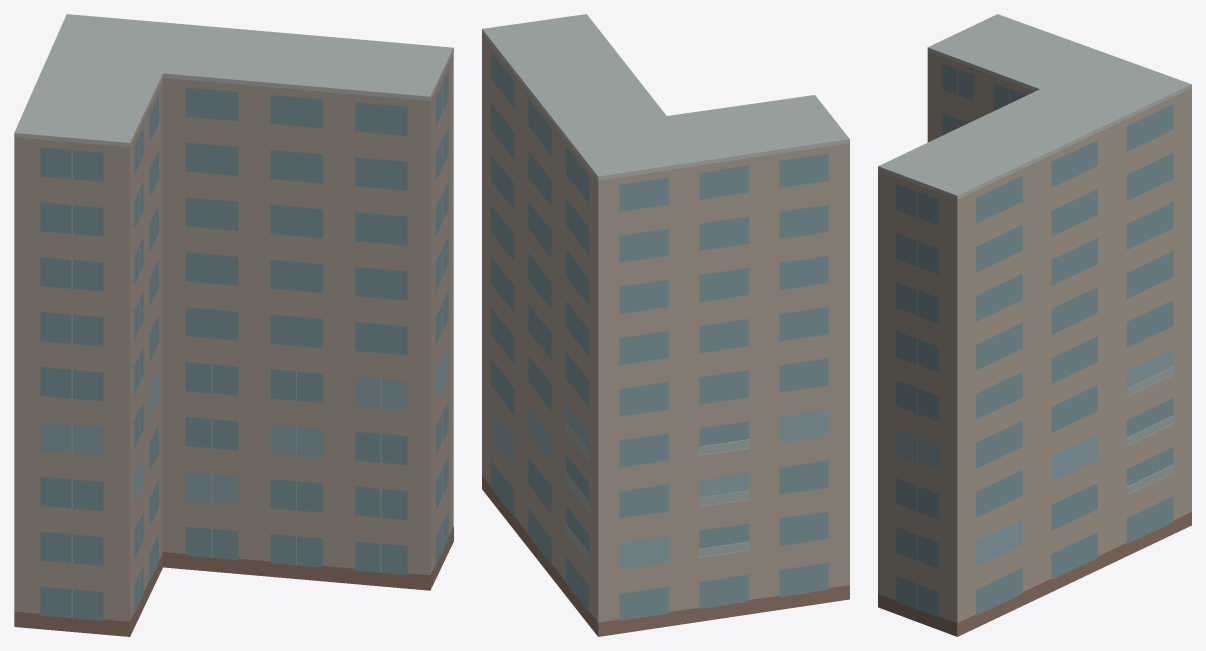
The model's file is survey-upis-32985994.glb.
3 views of the same model, side by side, from view 1: azimuth 30°, elevation 25°; view 2: azimuth 150°, elevation 25°; view 3: azimuth 270°, elevation 25° (orthographic). The views are drawn at different scales.
Parts seen in each view (by area): view 1: survey-upis-32985994.tmp; view 2: survey-upis-32985994.tmp; view 3: survey-upis-32985994.tmp.
Part boxes in pixels (x1,y1,x2,y2): survey-upis-32985994.tmp: [14, 14, 453, 636]; survey-upis-32985994.tmp: [482, 14, 849, 636]; survey-upis-32985994.tmp: [878, 14, 1191, 636].
Bounding box in the file's own units: 24.75 × 28 × 18.05.
